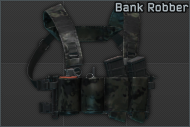Spiritus Systems Bank Robber chest rig: (0, 0, 190, 127)
